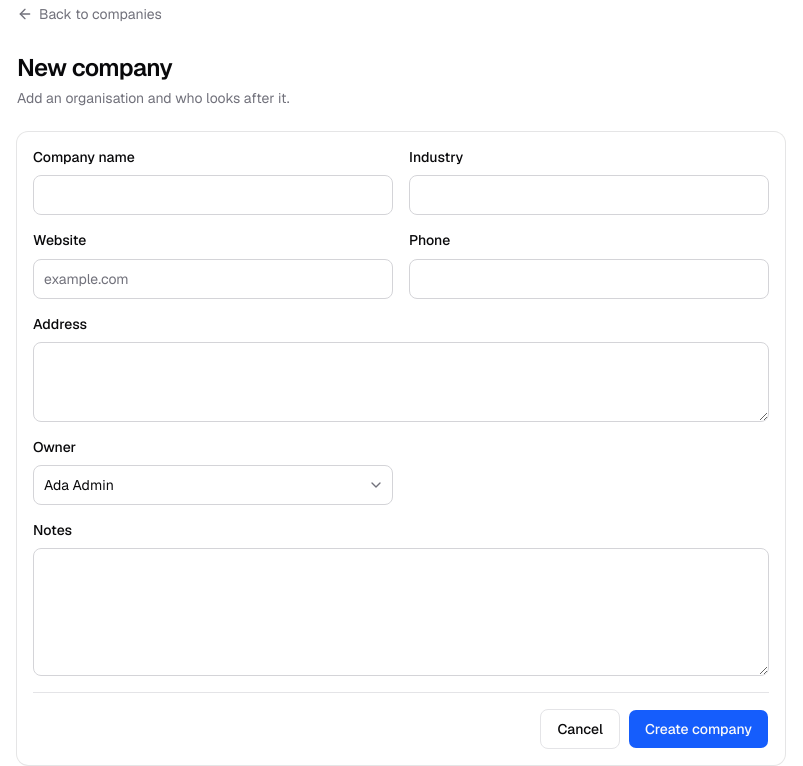
Test: NewCompanyPage › puts the server's validation details on the matching fields
Type "Northwind" into the field labelled "Company name" at coordinates (213, 195), box [33, 175, 393, 215]
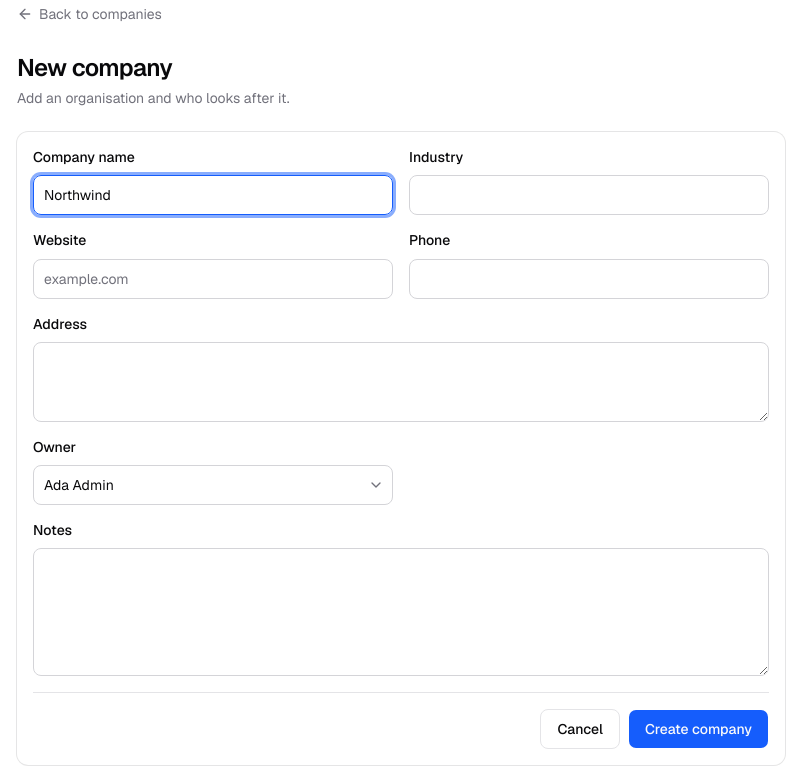
Click the button "Create company" at coordinates (698, 729), box [628, 709, 769, 749]
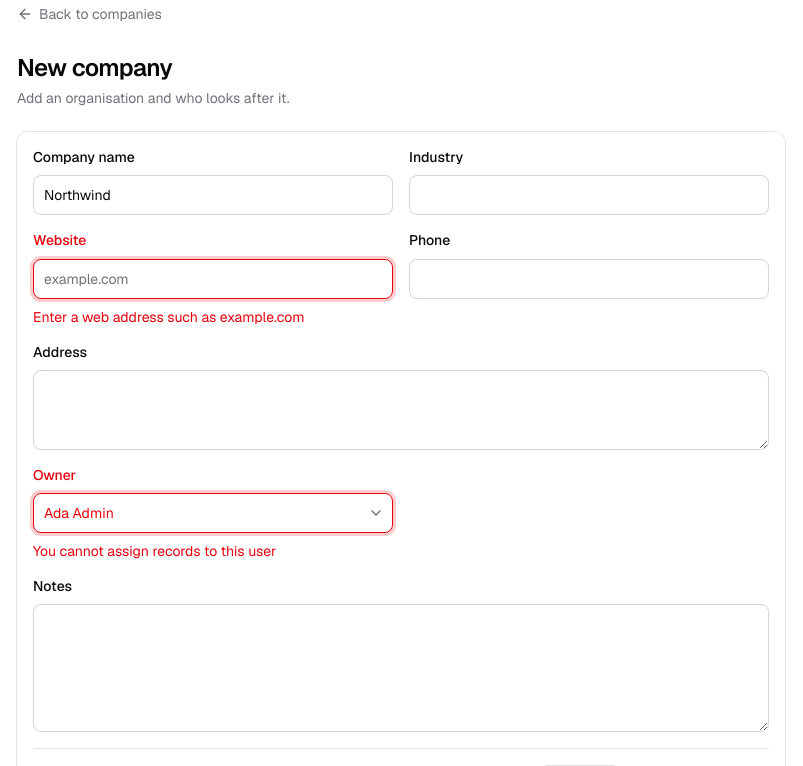
Expected: the text "Enter a web address such as example.com" is shown, [33, 308, 304, 326]
Expected: the text "You cannot assign records to this user" is shown, [33, 542, 276, 560]
